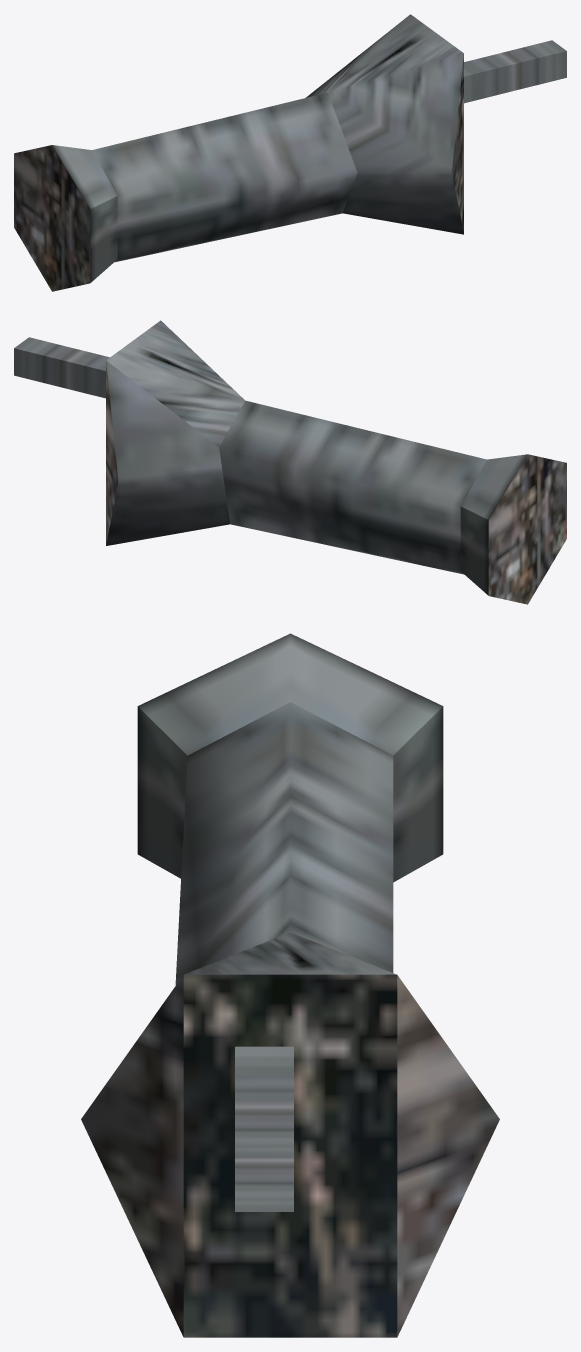
The model's file is tie_fighter_debris_b_l3.fbx.
3 views of the same model, one above another, from view 1: azimuth 30°, elevation 25°; view 2: azimuth 150°, elevation 25°; view 3: azimuth 270°, elevation 25° (orthographic). The views are drawn at different scales.
Visible parts, largest first — view 1: mesh_node; view 2: mesh_node; view 3: mesh_node.
Part boxes in pixels (x1=…): mesh_node: x1=14, y1=14, x2=566, y2=291; mesh_node: x1=14, y1=320, x2=566, y2=604; mesh_node: x1=81, y1=633, x2=499, y2=1337.
Bounding box in the file's own units: 2.81 × 0.9726 × 1.02.
